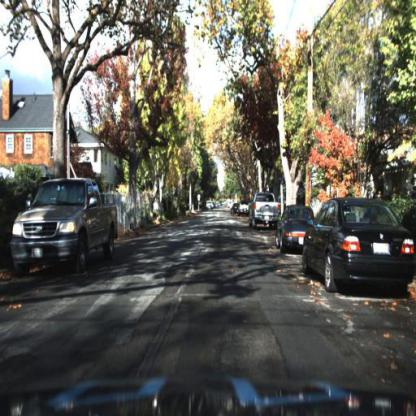car: (305, 193, 416, 288), (12, 178, 118, 267), (273, 203, 308, 256), (275, 205, 316, 250), (249, 192, 280, 234), (251, 192, 278, 231), (238, 198, 250, 221), (232, 203, 239, 217)
